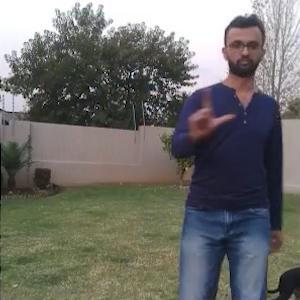land_hand: (178, 68, 238, 135)
